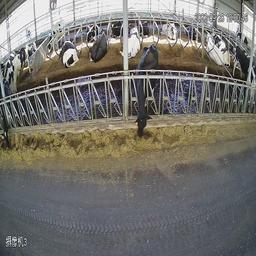cow: (134, 43, 164, 137), (14, 40, 38, 95), (46, 15, 67, 53), (203, 31, 223, 67), (89, 29, 109, 62), (58, 42, 79, 68), (129, 24, 140, 58), (160, 20, 178, 39), (84, 20, 98, 39), (184, 24, 199, 40), (110, 20, 123, 38), (139, 20, 151, 38)
